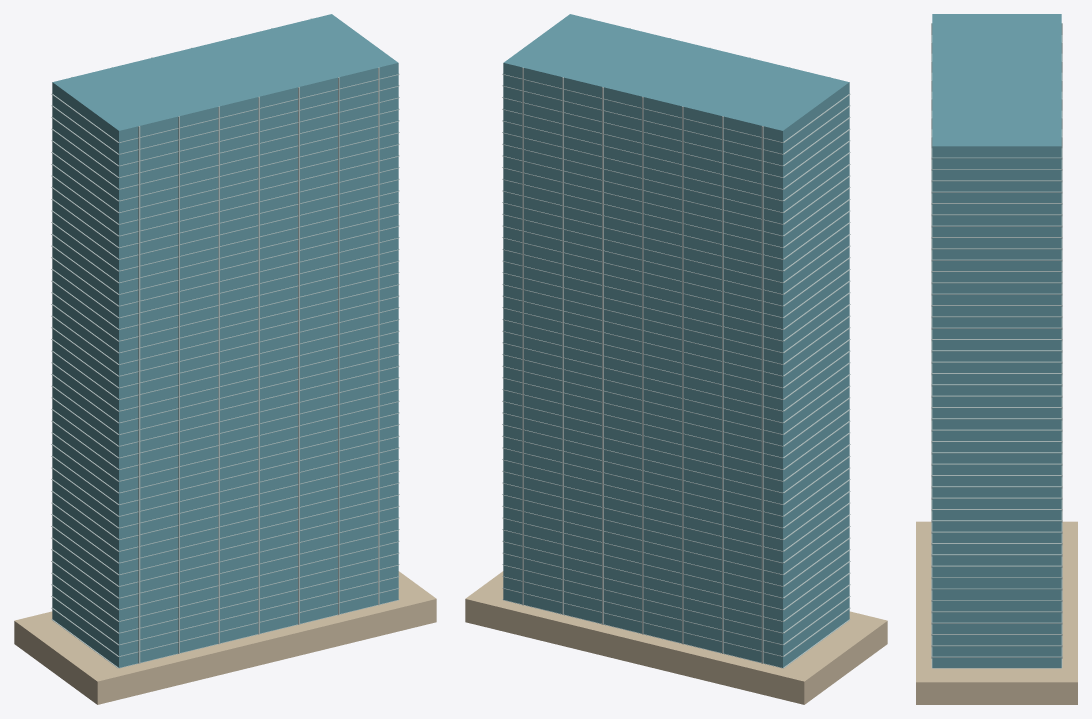
The model's file is china-shipbuilding.glb.
3 views of the same model, side by side, from view 1: azimuth 30°, elevation 25°; view 2: azimuth 150°, elevation 25°; view 3: azimuth 270°, elevation 25° (orthographic). The views are drawn at different scales.
Parts seen in each view (by area): view 1: china-shipbuilding; view 2: china-shipbuilding; view 3: china-shipbuilding.
Boxes of the visible parts, box(x1,y1,x2,y2) form: china-shipbuilding: box(14, 14, 436, 704); china-shipbuilding: box(465, 14, 887, 704); china-shipbuilding: box(916, 14, 1077, 704).
Bounding box in the file's own units: 64.6 × 102 × 27.48.
